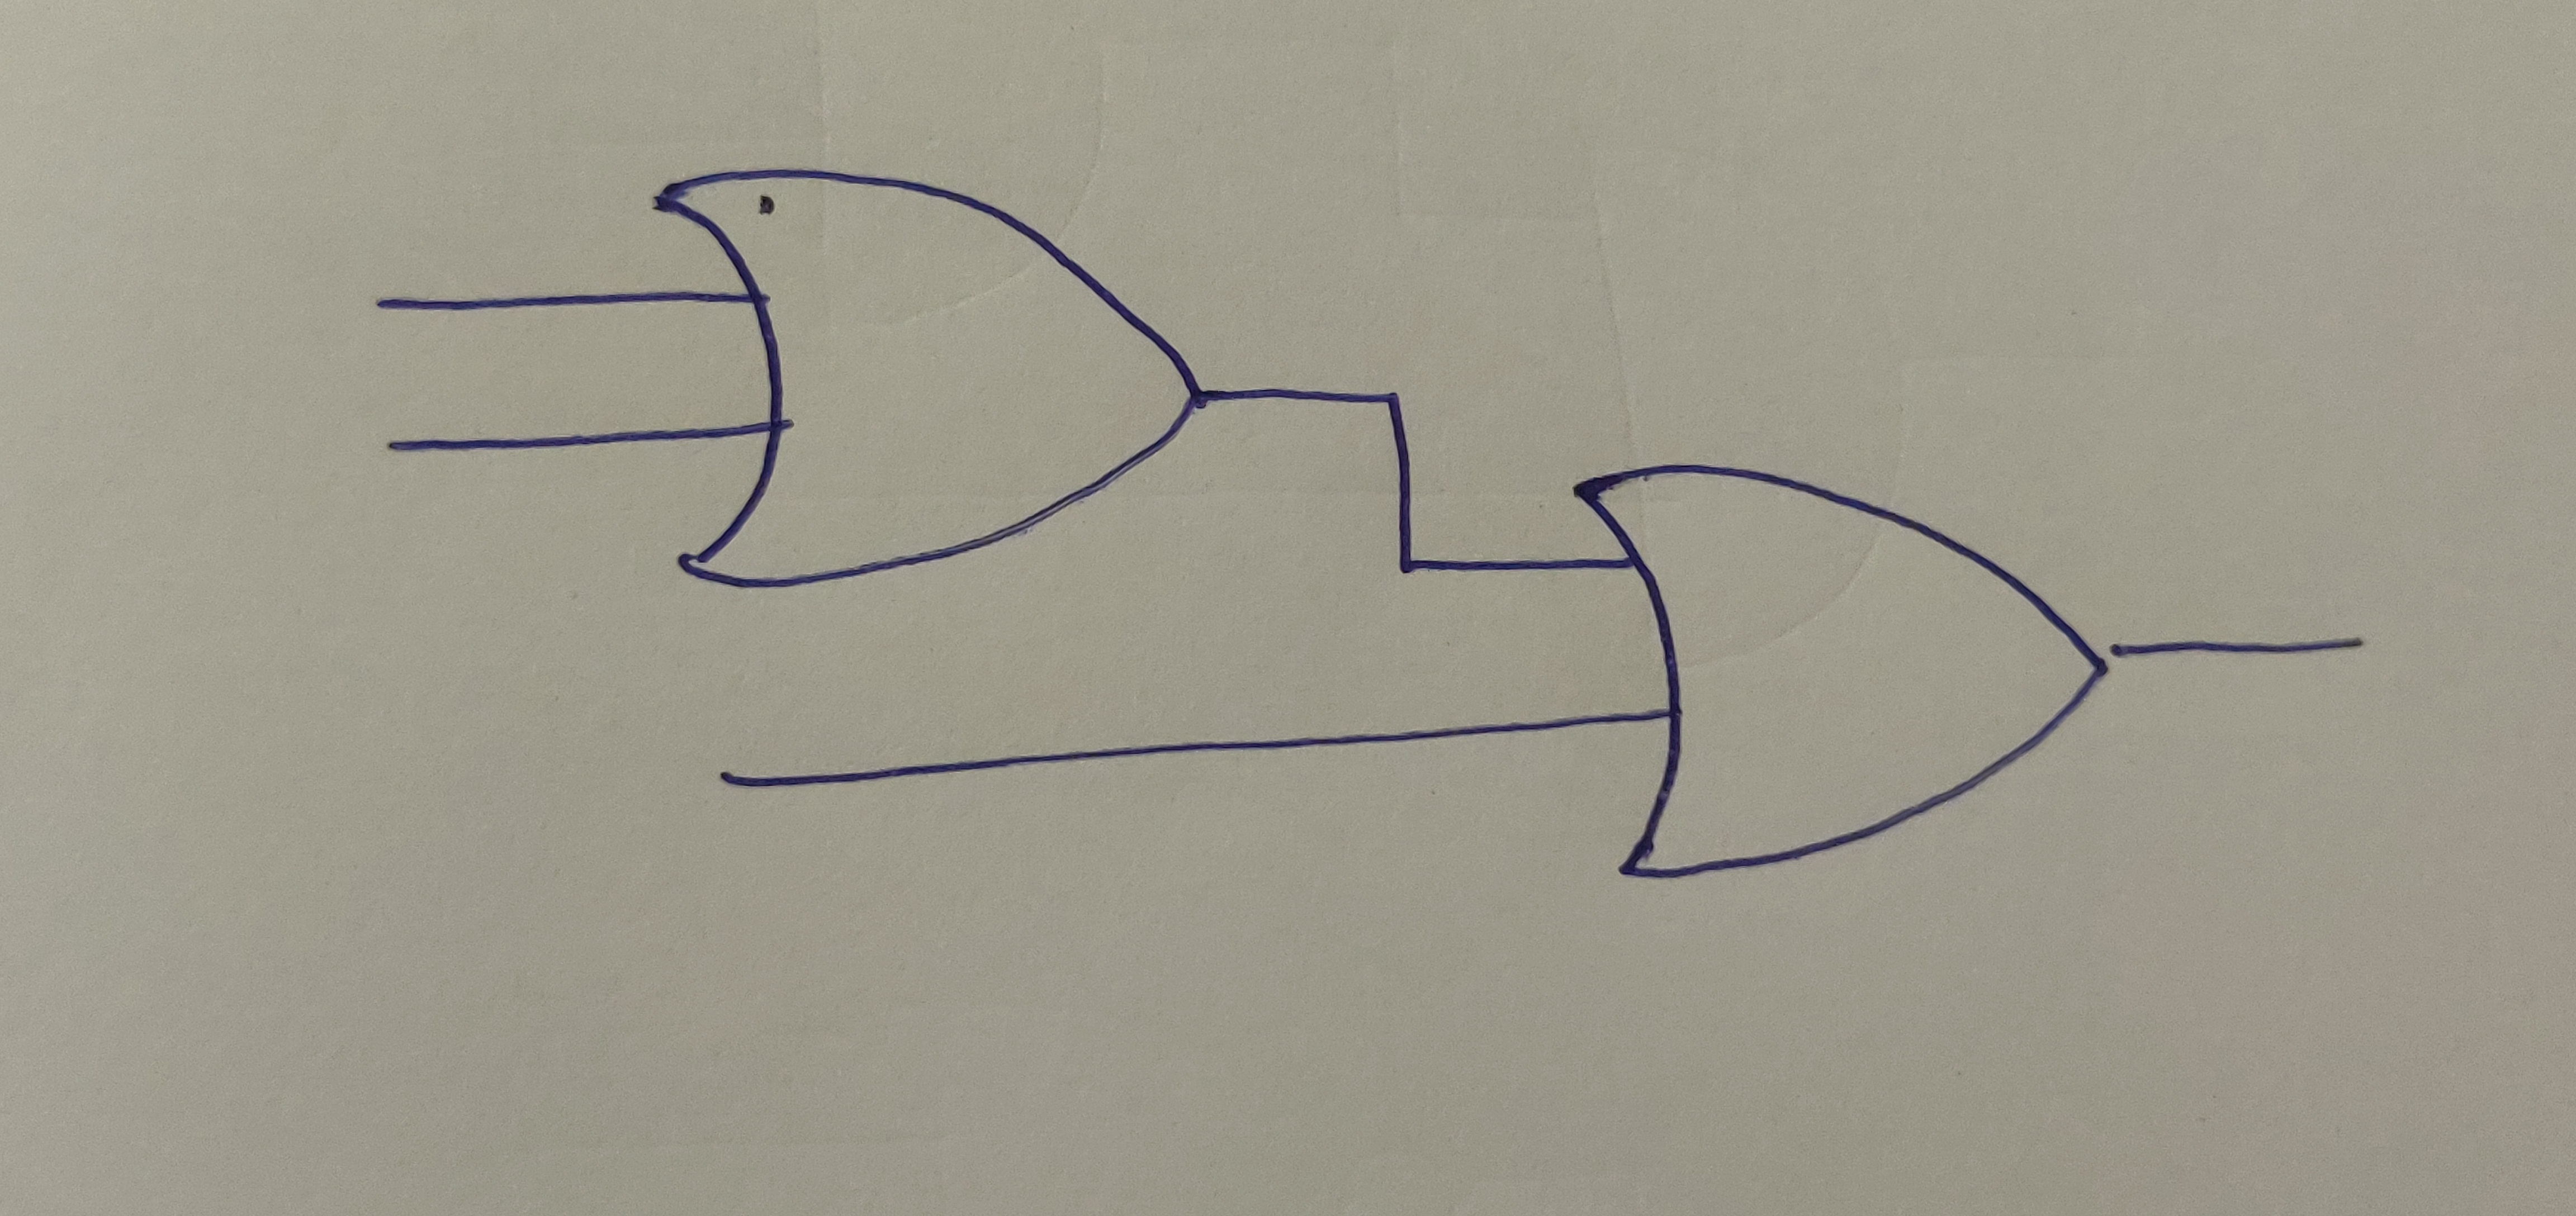or: (649, 163, 1203, 585), (1572, 463, 2116, 876)
